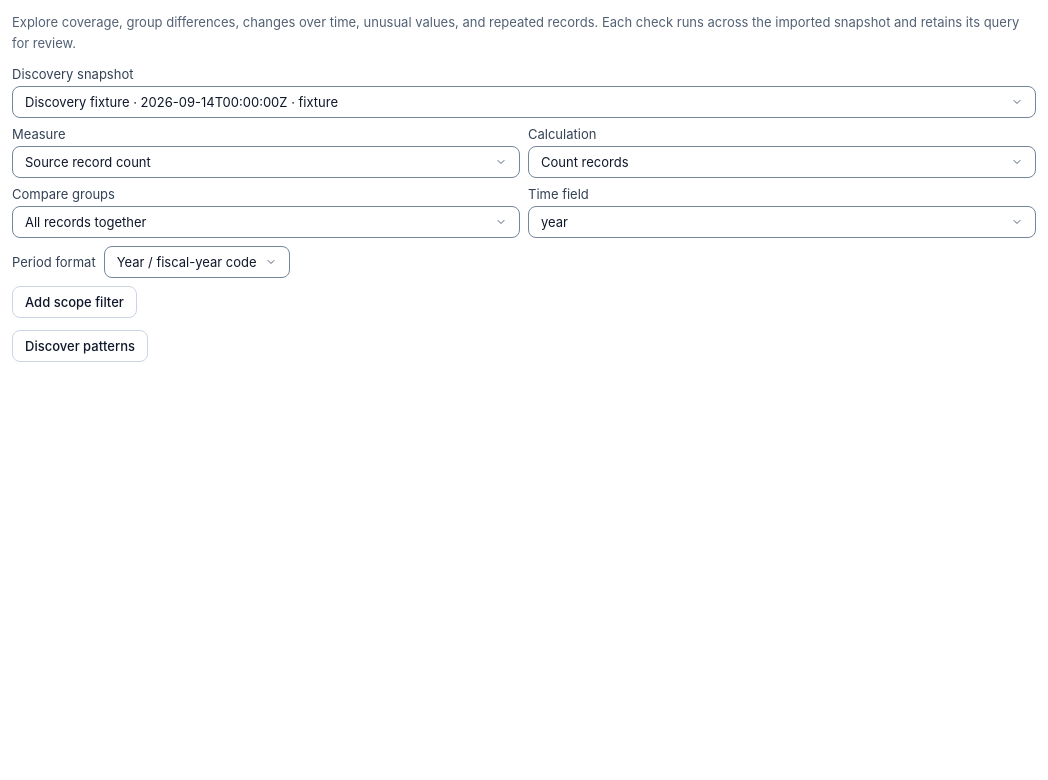
Scenario: data discovery workflow › stops after a pending query and discloses unfinished checks
This screenshot has width=1048, height=780.
Click the button "Discover patterns".
click(80, 346)  # box [12, 330, 148, 362]
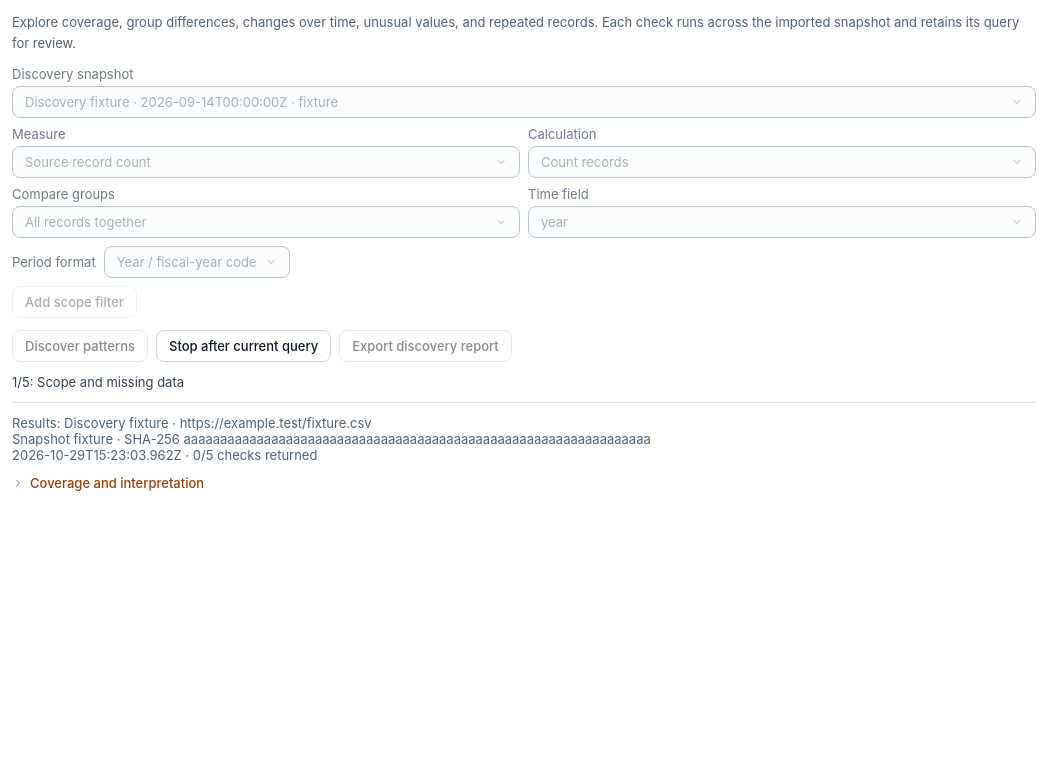
Click the button "Stop after current query".
click(244, 346)  # box [156, 330, 331, 362]
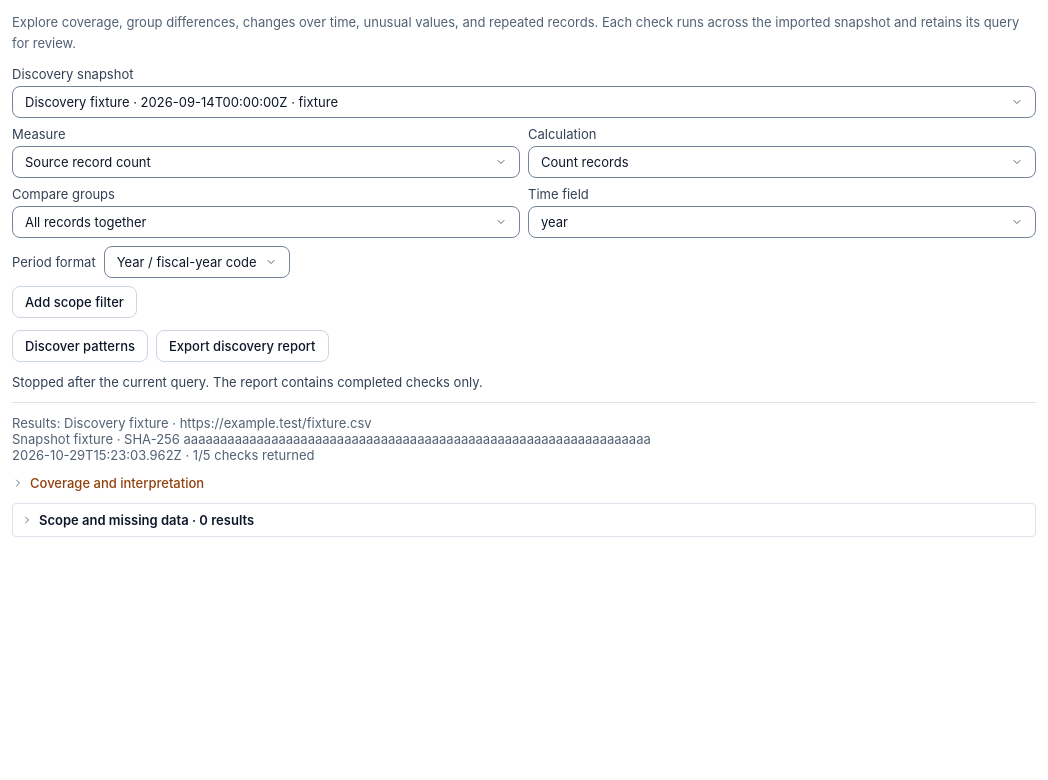
expect the text "Stopped after the current query. The report contains completed checks only." is shown: met, box [12, 374, 483, 390]
expect the text "1/5 checks returned" is shown: met, box [12, 415, 651, 463]
